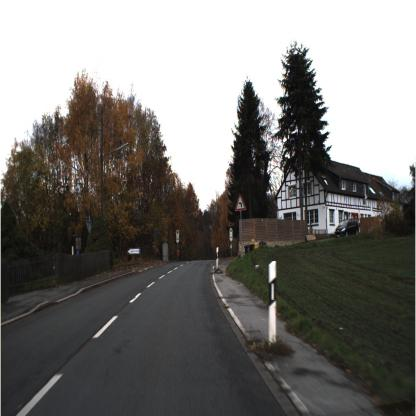bend right: (235, 192, 246, 211)
